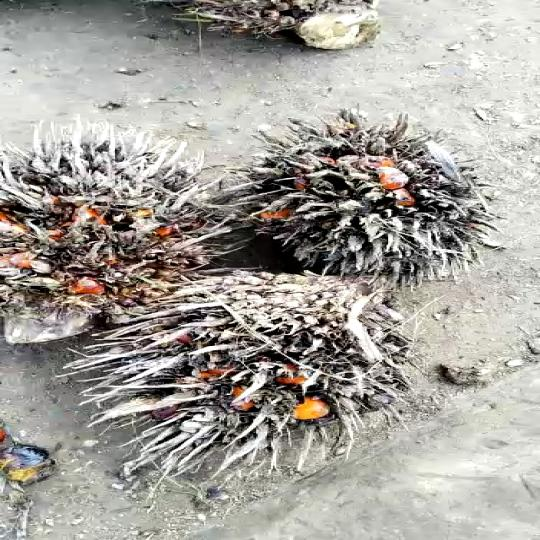terlalu masak: (75, 272, 429, 480), (0, 119, 265, 339), (232, 116, 501, 283)
